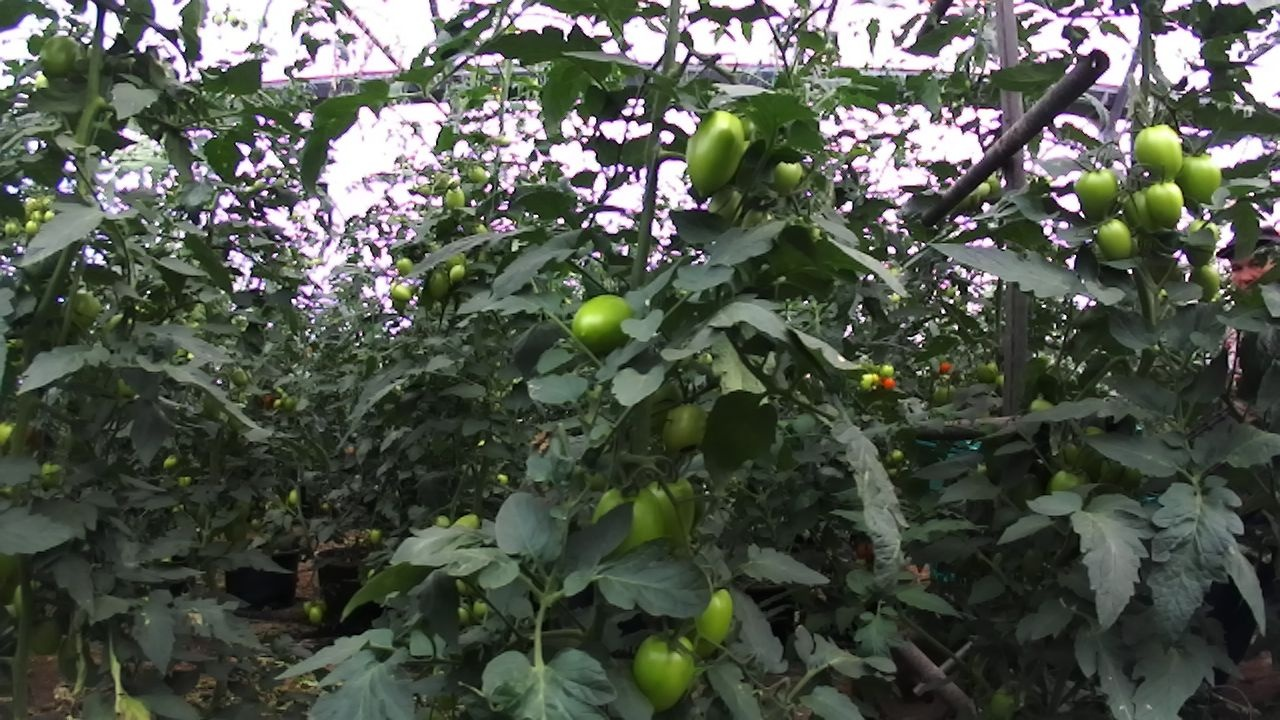tomato: (677, 99, 760, 210), (588, 478, 671, 589), (624, 627, 708, 720), (560, 285, 654, 362), (641, 467, 709, 554), (1125, 118, 1196, 189), (684, 579, 741, 663), (1168, 146, 1230, 217), (656, 393, 720, 461), (1068, 162, 1128, 227), (1141, 174, 1195, 238), (32, 29, 84, 85), (1092, 213, 1138, 270), (57, 288, 109, 338), (767, 150, 815, 203), (1181, 256, 1226, 310), (426, 264, 453, 305), (440, 182, 469, 214), (303, 601, 328, 628), (388, 281, 414, 304), (464, 161, 488, 184), (446, 262, 468, 286), (393, 255, 416, 276)
